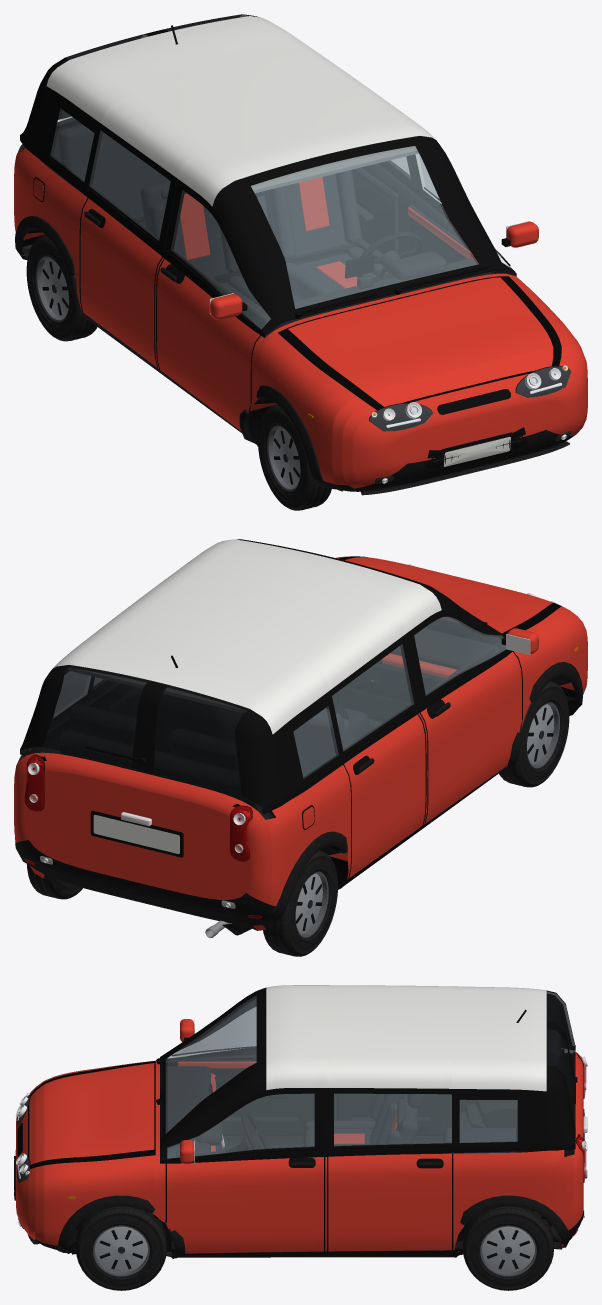
Rendered from pico_lod1.glb.
3 renders of one model, top to bottom at view 1: azimuth 30°, elevation 25°; view 2: azimuth 150°, elevation 25°; view 3: azimuth 270°, elevation 25°, orthographic. The views are drawn at different scales.
Parts seen in each view (by area): view 1: pico, hood, door_FR, door_RR, popout_RR, door_RL, wheel_FR, wheel_RR, door_FL, tailgate, steering_wheel; view 2: pico, tailgate, door_FR, door_RR, popout_RR, wheel_RR, hood, wheel_FR, door_RL, wheel_RL; view 3: pico, door_FL, door_RL, hood, door_FR, wheel_FL, wheel_RL, popout_RL, tailgate, door_RR, steering_wheel.
Boxes of the visible parts, left/top/right/bottom form: pico: left=14, top=16, right=587, bottom=495; hood: left=288, top=277, right=553, bottom=406; door_FR: left=155, top=179, right=271, bottom=443; door_RR: left=79, top=124, right=174, bottom=367; popout_RR: left=89, top=131, right=170, bottom=240; door_RL: left=343, top=156, right=421, bottom=259; wheel_FR: left=258, top=404, right=331, bottom=510; wheel_RR: left=26, top=235, right=97, bottom=341; door_FL: left=408, top=153, right=538, bottom=274; tailgate: left=20, top=14, right=258, bottom=152; steering_wheel: left=356, top=232, right=422, bottom=281; pico: left=14, top=539, right=587, bottom=937; tailgate: left=20, top=665, right=286, bottom=826; door_FR: left=407, top=610, right=538, bottom=824; door_RR: left=330, top=635, right=425, bottom=879; popout_RR: left=332, top=644, right=413, bottom=751; wheel_RR: left=263, top=850, right=337, bottom=956; hood: left=345, top=557, right=552, bottom=633; wheel_FR: left=499, top=681, right=569, bottom=787; door_RL: left=90, top=680, right=141, bottom=717; wheel_RL: left=26, top=864, right=82, bottom=899; pico: left=14, top=985, right=587, bottom=1258; door_FL: left=166, top=1088, right=326, bottom=1258; door_RL: left=328, top=1088, right=455, bottom=1251; hood: left=29, top=1063, right=154, bottom=1164; door_FR: left=167, top=1002, right=314, bottom=1145; wheel_FL: left=76, top=1205, right=166, bottom=1290; wheel_RL: left=463, top=1205, right=553, bottom=1290; popout_RL: left=334, top=1093, right=451, bottom=1145; tailgate: left=546, top=990, right=587, bottom=1150; door_RR: left=334, top=1093, right=451, bottom=1142; steering_wheel: left=241, top=1112, right=269, bottom=1149.
Bounding box in the file's own units: 1.96 × 1.58 × 3.59.
62 materials, 6 textured.
